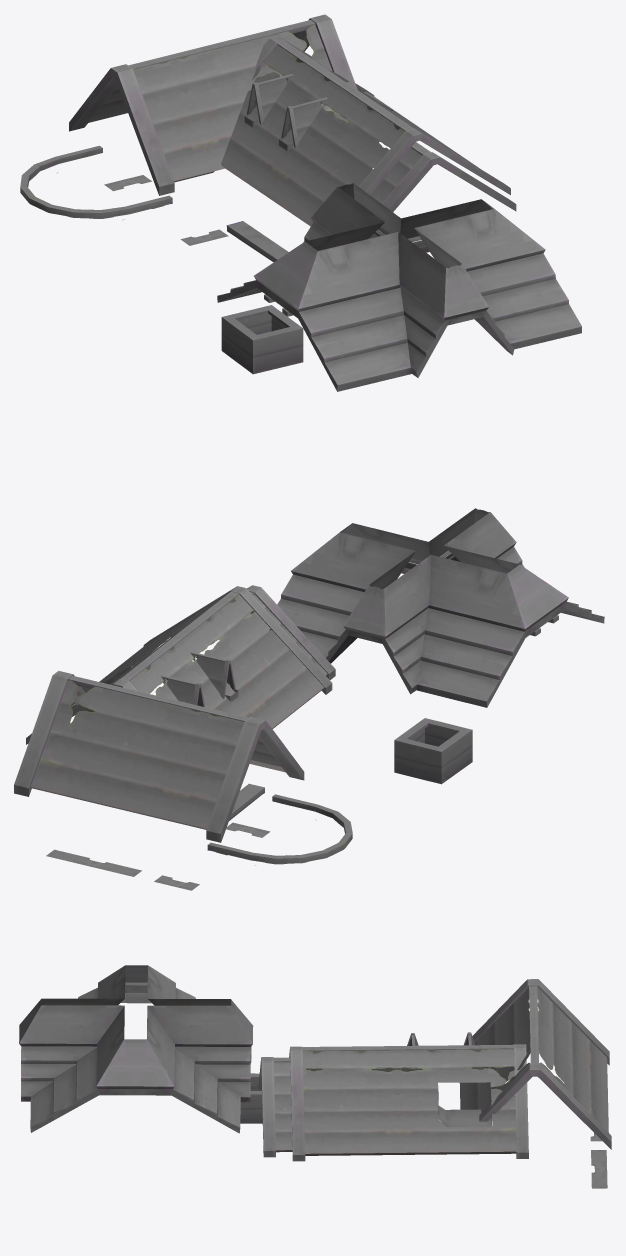
Rendered from pref_sm_garden_house_vertexcolor03_lv0.fbx.
3 renders of one model, top to bottom at view 1: azimuth 30°, elevation 25°; view 2: azimuth 150°, elevation 25°; view 3: azimuth 270°, elevation 25°, orthographic. The views are drawn at different scales.
Parts seen in each view (by area): view 1: pref_sm_garden_house_vertexcolor03_lv0; view 2: pref_sm_garden_house_vertexcolor03_lv0; view 3: pref_sm_garden_house_vertexcolor03_lv0.
Boxes of the visible parts, left/top/right/bottom form: pref_sm_garden_house_vertexcolor03_lv0: left=20, top=14, right=581, bottom=391; pref_sm_garden_house_vertexcolor03_lv0: left=14, top=508, right=604, bottom=890; pref_sm_garden_house_vertexcolor03_lv0: left=19, top=965, right=611, bottom=1188.
Size of the model in its own units: 11.69 by 6.27 by 19.86.
